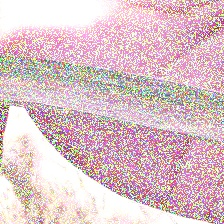Leaf_Blast: (7, 83, 220, 129)
